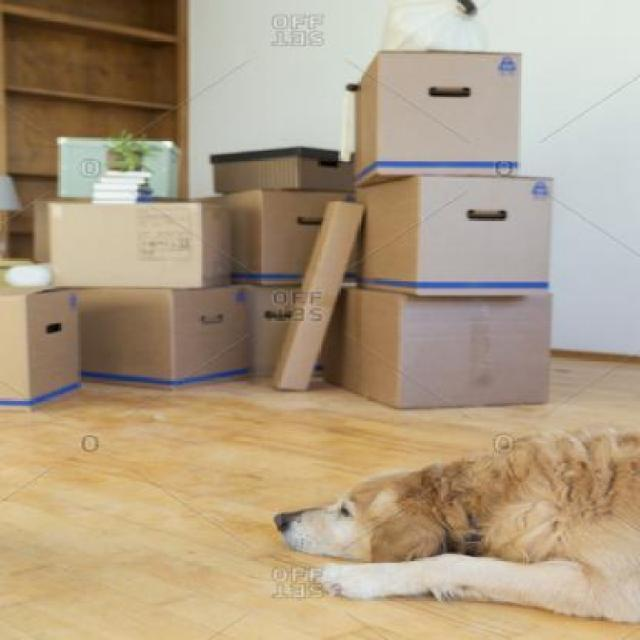box: (330, 288, 554, 410), (357, 179, 556, 298), (354, 48, 524, 184), (76, 280, 254, 392), (39, 191, 227, 291), (280, 198, 359, 392), (222, 191, 362, 288), (0, 287, 81, 417), (246, 281, 330, 373), (212, 147, 359, 196)
